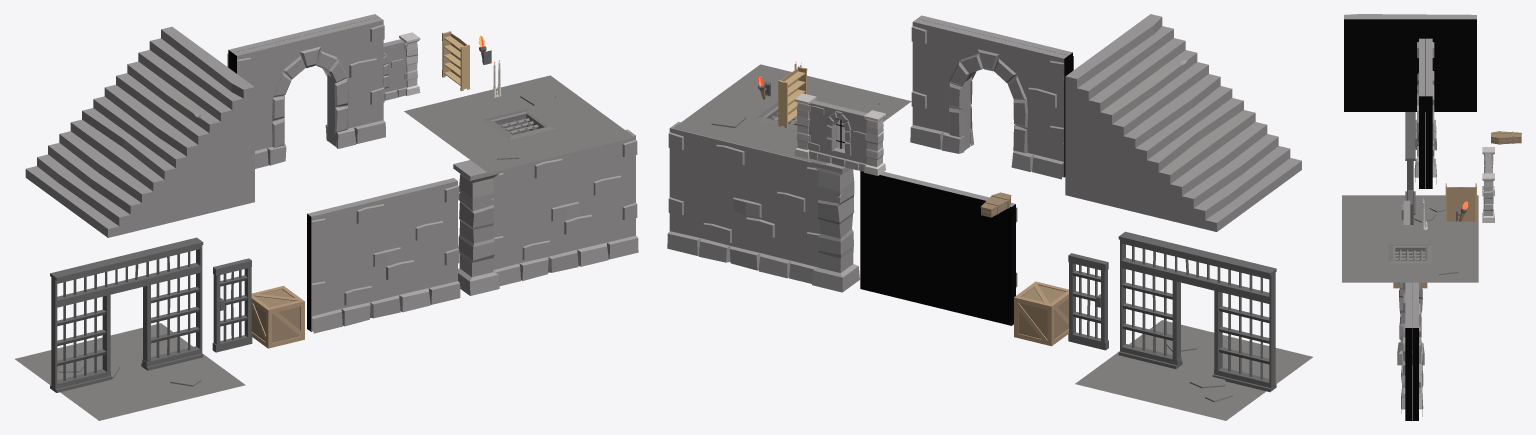
File: map.fbx
3 views of the same model, side by side, from view 1: azimuth 30°, elevation 25°; view 2: azimuth 150°, elevation 25°; view 3: azimuth 270°, elevation 25° (orthographic). The views are drawn at different scales.
Visible parts, largest first — view 1: cauthang, tuong_2, dungeon_wall_stone__271_1, dungeon_door_stone__15_1, dds3, sat, dds2, dungeon_pillar_stone_square__9_1, box, cua, kkedo, dungeon_wall_window_stone__9_1 (+2 smaller); view 2: cauthang, tuong_2, dungeon_wall_stone__269_1, dungeon_door_stone__16_1, sat, dds2, dds3, dungeon_pillar_stone_square__9_1, dungeon_wall_window_stone__24_1, box, cua, dungeon_door_stone__15_1 (+3 smaller); view 3: cauthang, dds3, dds2, dungeon_door_stone__15_1, dungeon_door_stone__16_1, dungeon_wall_stone__269_1, dungeon_wall_stone__271_1, kkedo, sat, dungeon_pillar_stone_square__9_1, dungeon_pillar_stone_square__30_1, tuong_2 (+3 smaller).
Part boxes in pixels (x1=…): cauthang: x1=25, y1=26, x2=254, y2=237; tuong_2: x1=307, y1=178, x2=460, y2=333; dungeon_wall_stone__271_1: x1=493, y1=132, x2=638, y2=285; dungeon_door_stone__15_1: x1=232, y1=17, x2=385, y2=168; dds3: x1=404, y1=75, x2=634, y2=172; sat: x1=50, y1=237, x2=203, y2=392; dds2: x1=15, y1=323, x2=245, y2=420; dungeon_pillar_stone_square__9_1: x1=453, y1=160, x2=499, y2=295; box: x1=251, y1=286, x2=304, y2=348; cua: x1=212, y1=258, x2=252, y2=352; kkedo: x1=442, y1=31, x2=469, y2=91; dungeon_wall_window_stone__9_1: x1=383, y1=40, x2=406, y2=100; cauthang: x1=1065, y1=14, x2=1301, y2=231; tuong_2: x1=860, y1=171, x2=1017, y2=325; dungeon_wall_stone__269_1: x1=667, y1=125, x2=819, y2=283; dungeon_door_stone__16_1: x1=910, y1=18, x2=1068, y2=179; sat: x1=1118, y1=231, x2=1276, y2=391; dds2: x1=1075, y1=320, x2=1312, y2=420; dds3: x1=673, y1=64, x2=911, y2=165; dungeon_pillar_stone_square__9_1: x1=812, y1=162, x2=859, y2=292; dungeon_wall_window_stone__24_1: x1=808, y1=101, x2=866, y2=171; box: x1=1014, y1=281, x2=1068, y2=346; cua: x1=1068, y1=253, x2=1108, y2=350; dungeon_door_stone__15_1: x1=917, y1=15, x2=1073, y2=149; cauthang: x1=1344, y1=14, x2=1476, y2=111; dds3: x1=1342, y1=225, x2=1478, y2=282; dds2: x1=1342, y1=195, x2=1478, y2=224; dungeon_door_stone__15_1: x1=1414, y1=38, x2=1425, y2=188; dungeon_door_stone__16_1: x1=1426, y1=38, x2=1436, y2=188; dungeon_wall_stone__269_1: x1=1412, y1=282, x2=1423, y2=420; dungeon_wall_stone__271_1: x1=1401, y1=282, x2=1411, y2=420; kkedo: x1=1445, y1=183, x2=1476, y2=222; sat: x1=1405, y1=112, x2=1415, y2=218; dungeon_pillar_stone_square__9_1: x1=1397, y1=282, x2=1424, y2=365; dungeon_pillar_stone_square__30_1: x1=1482, y1=173, x2=1494, y2=222; tuong_2: x1=1399, y1=200, x2=1410, y2=342.
Size of the model in its own units: 1580 by 768 by 527.
